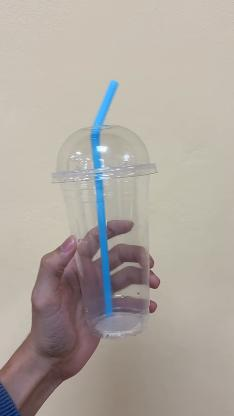Plastic Cup: (46, 122, 162, 338)
